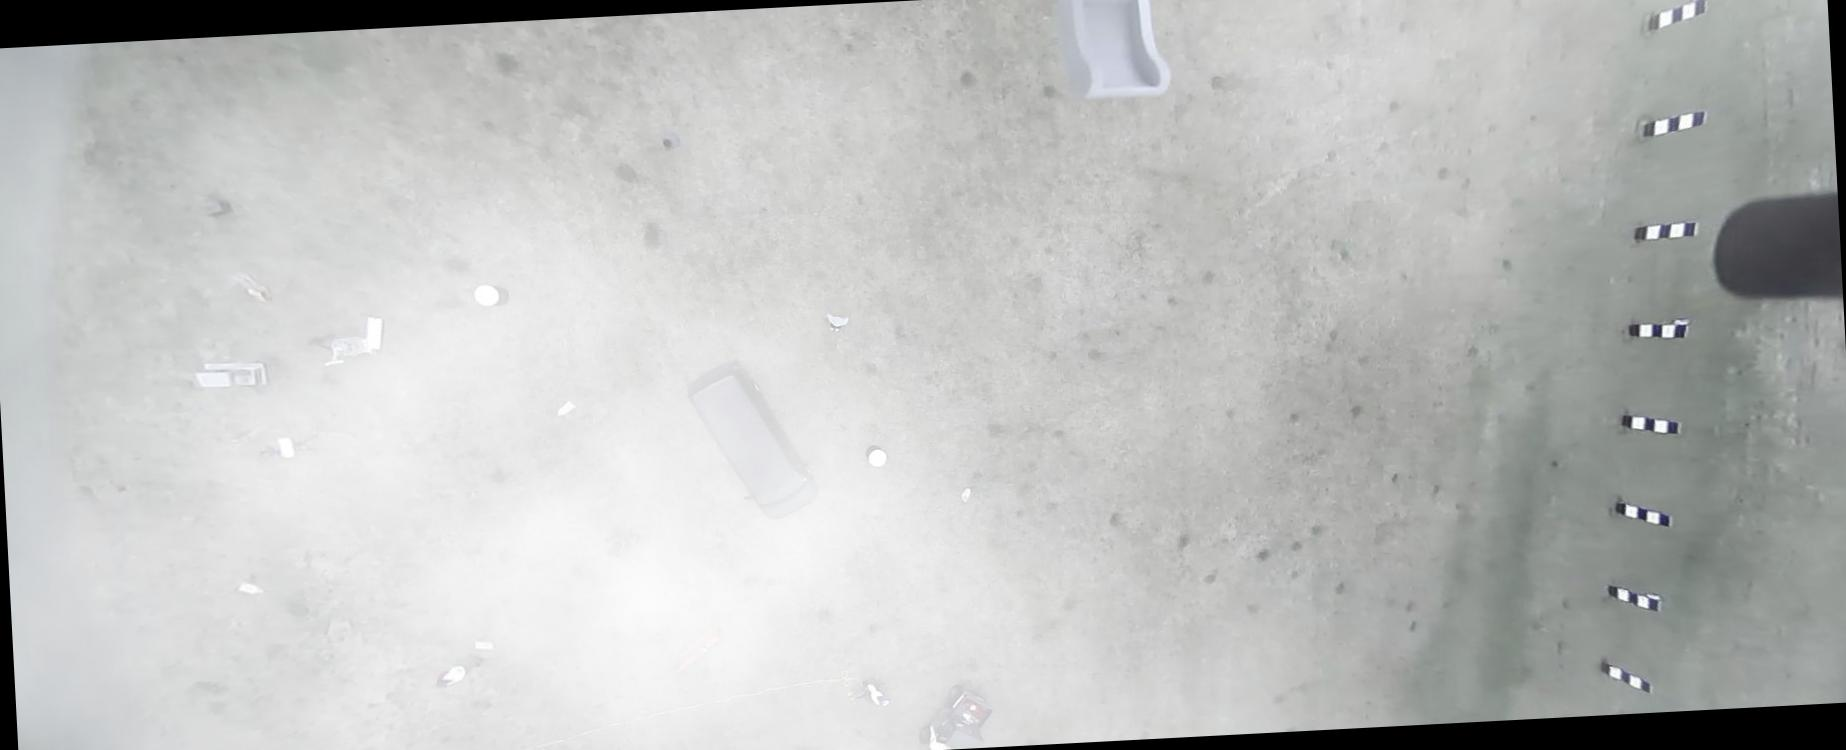vehicle: (685, 361, 819, 523), (916, 681, 996, 750)
